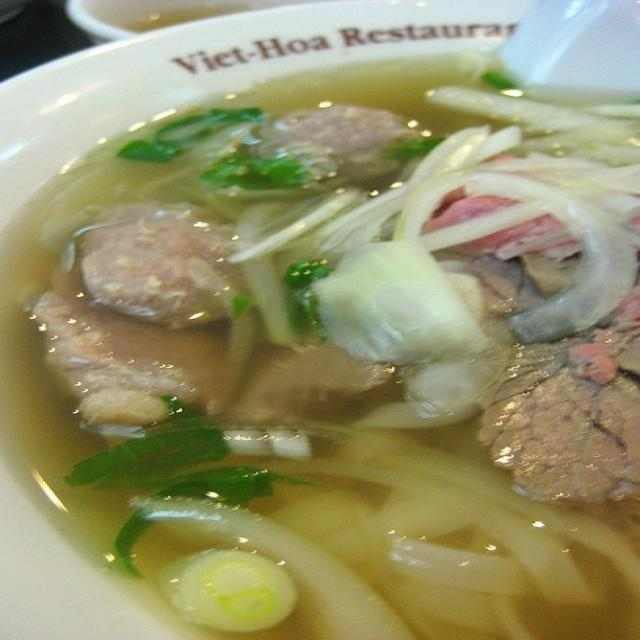面条主食: (23, 12, 615, 628)
